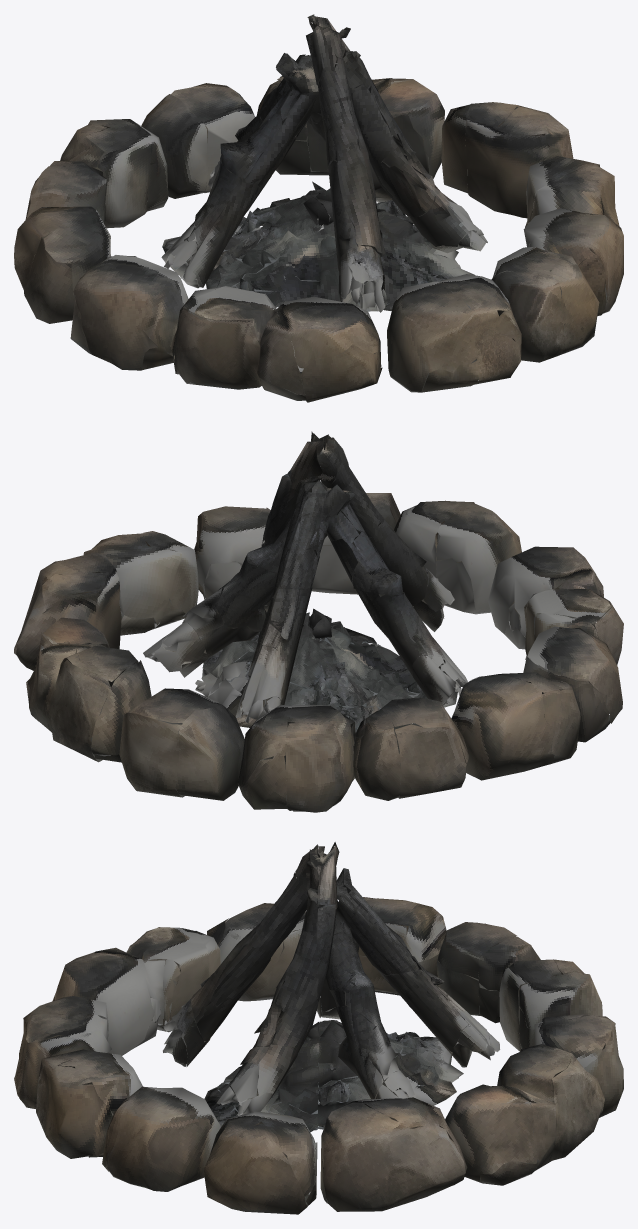
The model's file is rp_campfire.glb.
3 views of the same model, one above another, from view 1: azimuth 30°, elevation 25°; view 2: azimuth 150°, elevation 25°; view 3: azimuth 270°, elevation 25° (orthographic). The views are drawn at different scales.
Visible parts, largest first — view 1: rp_campfire; view 2: rp_campfire; view 3: rp_campfire.
Boxes of the visible parts, x1,y1,x2,y2 form: rp_campfire: (14,14,623,402); rp_campfire: (14,431,623,812); rp_campfire: (14,842,623,1214).
Size of the model in its own units: 1.18 by 0.5421 by 1.2.
Materials: 1 (1 with a texture image).
